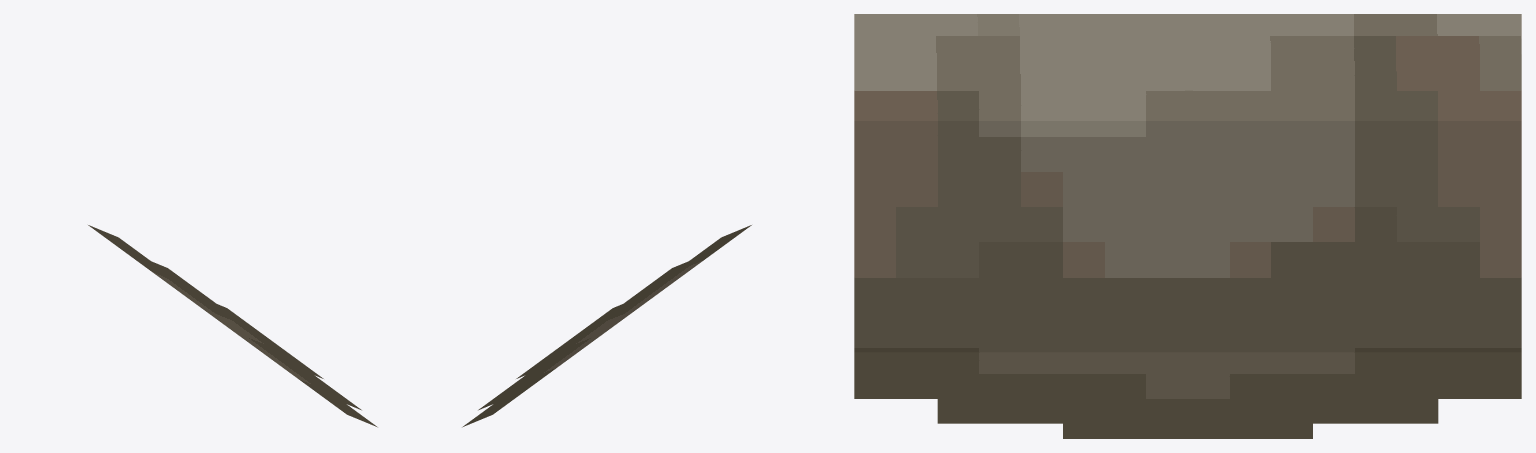
3 renders of one model, left to right at view 1: azimuth 30°, elevation 25°; view 2: azimuth 150°, elevation 25°; view 3: azimuth 270°, elevation 25°, orthographic. The views are drawn at different scales.
Bounding box in the file's own units: 0.293 × 0.5662 × 1.
Materials: 1 (1 with a texture image).
